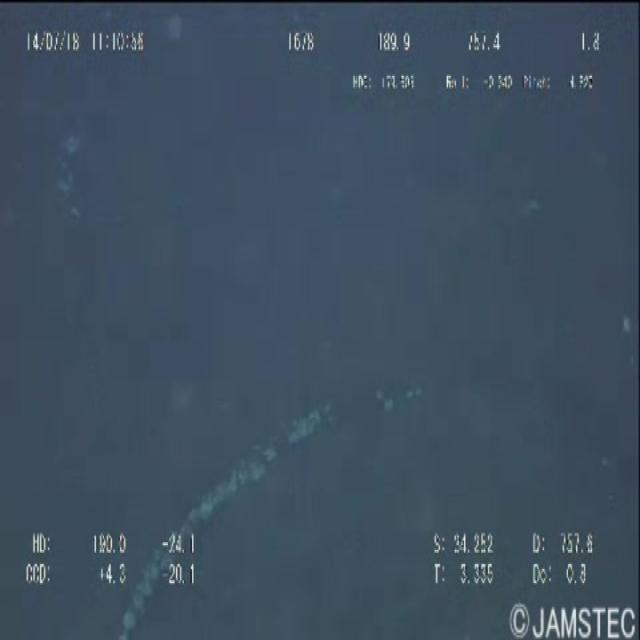Wood: (126, 384, 372, 640)
